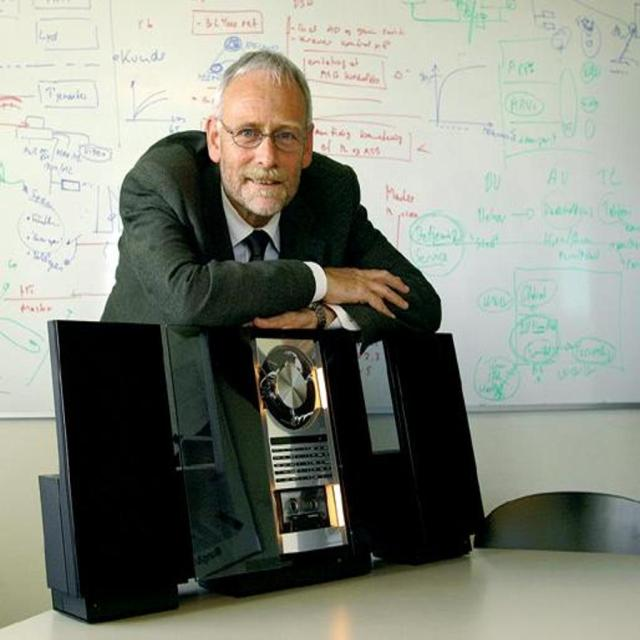Face: (211, 68, 315, 220)
